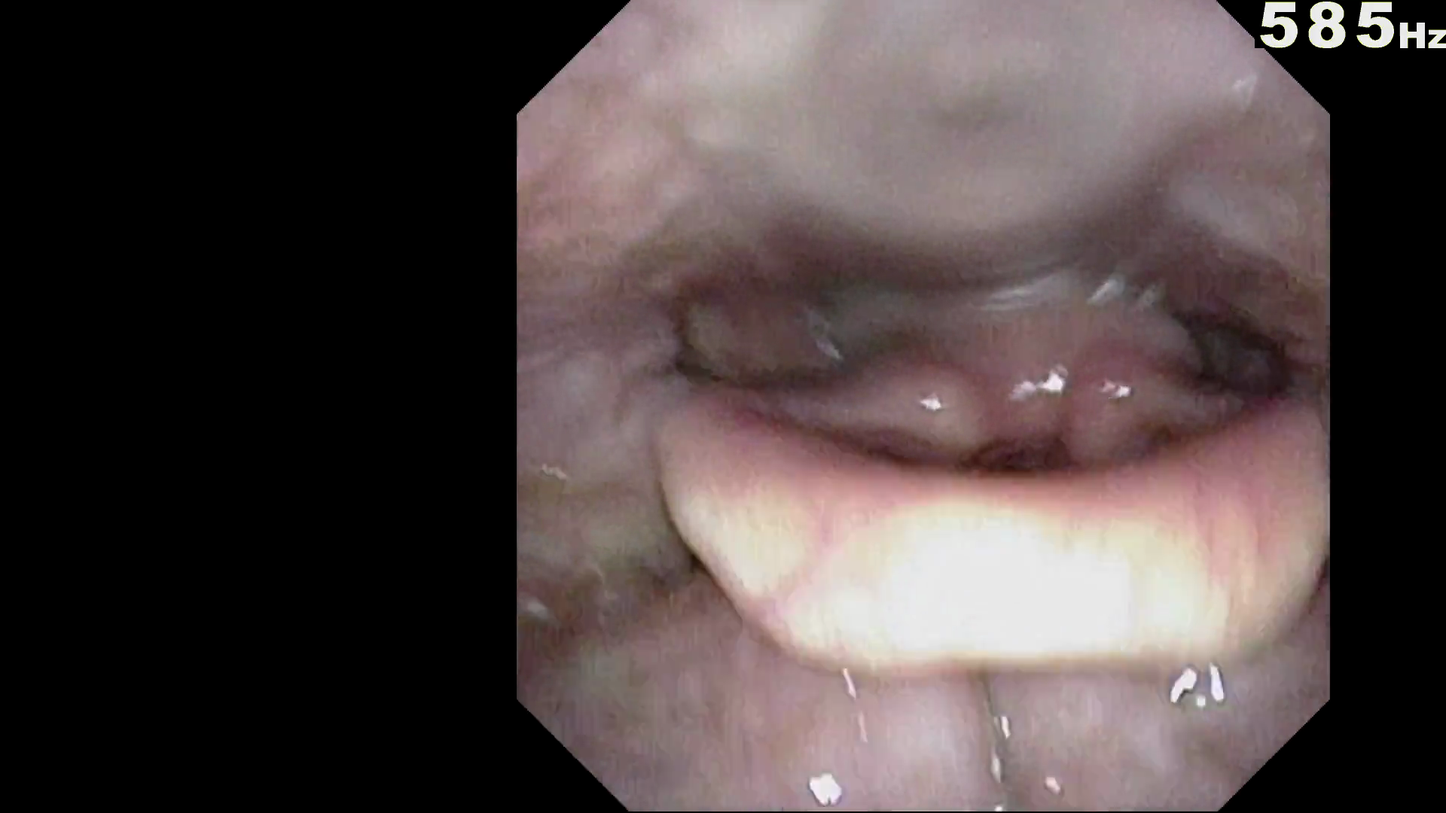epiglottis: (660, 345, 1329, 642)
trachea: (913, 298, 1074, 489)
